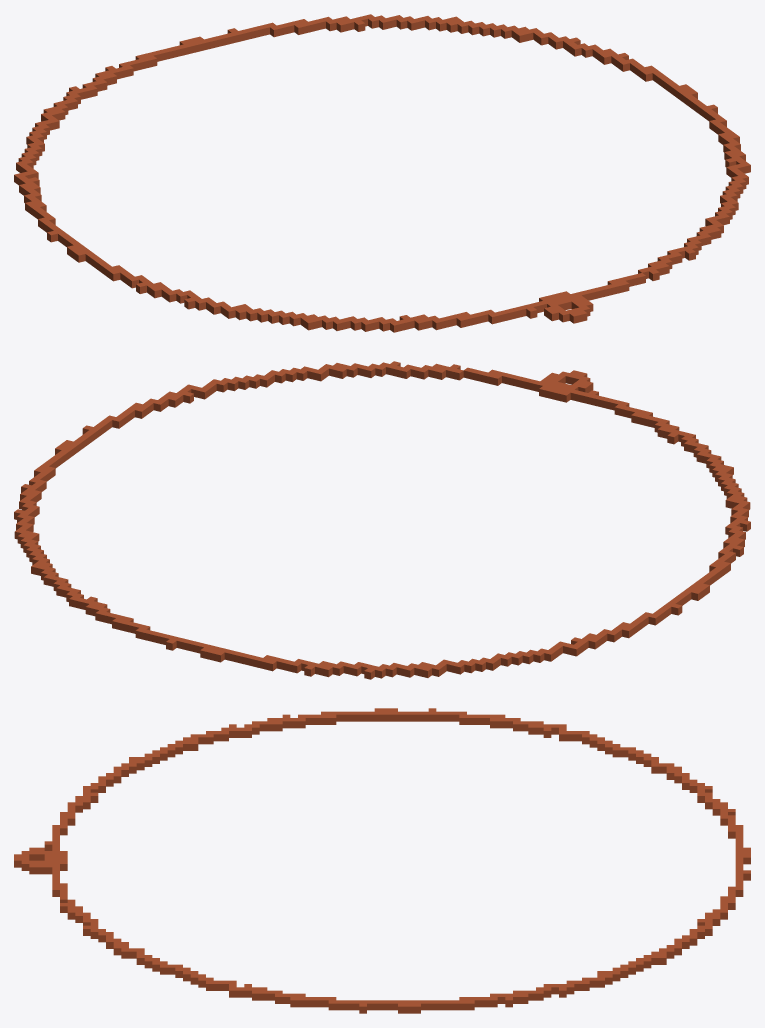
Rendered from copper_necklace.glb.
3 renders of one model, top to bottom at view 1: azimuth 30°, elevation 25°; view 2: azimuth 150°, elevation 25°; view 3: azimuth 270°, elevation 25°, orthographic. The views are drawn at different scales.
Visible parts, largest first — view 1: copper_necklace:compound; view 2: copper_necklace:compound; view 3: copper_necklace:compound.
Part boxes in pixels (x1,y1,x2,y2): copper_necklace:compound: (14,14,750,332); copper_necklace:compound: (14,361,750,679); copper_necklace:compound: (14,708,750,1013).
Size of the model in its own units: 0.184 by 0.002 by 0.192.
